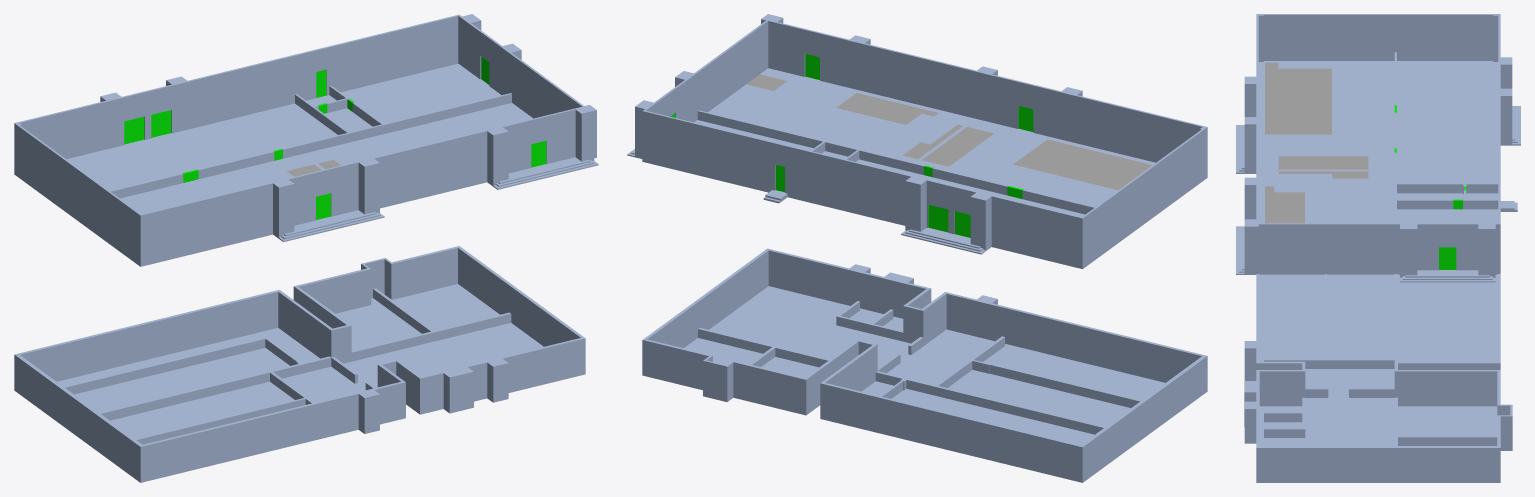
Rendered from Dosing_Building_expansion.glb.
3 views of the same model, side by side, from view 1: azimuth 30°, elevation 25°; view 2: azimuth 150°, elevation 25°; view 3: azimuth 270°, elevation 25° (orthographic). The views are drawn at different scales.
Visible parts, largest first — view 1: Floor1, Basement1; view 2: Floor1, Basement1; view 3: Floor1, Basement1.
Boxes of the visible parts, x1=… form: Floor1: x1=14, y1=14, x2=598, y2=266; Basement1: x1=14, y1=246, x2=585, y2=482; Floor1: x1=627, y1=14, x2=1207, y2=269; Basement1: x1=642, y1=248, x2=1207, y2=482; Floor1: x1=1236, y1=14, x2=1520, y2=282; Basement1: x1=1244, y1=274, x2=1512, y2=482.
Size of the model in its own units: 53.84 by 29.7 by 29.64.
